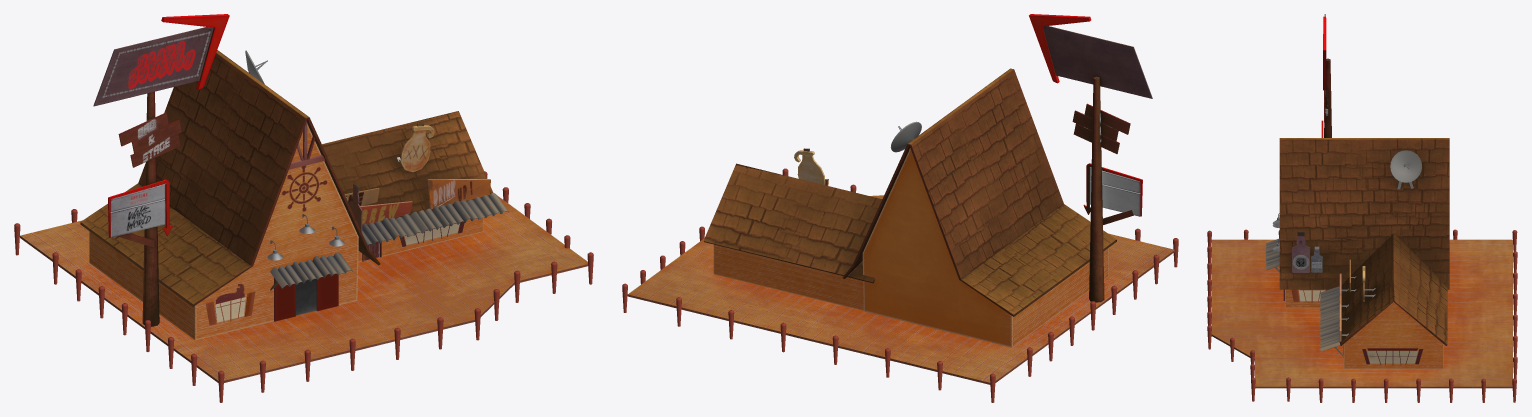
3 renders of one model, left to right at view 1: azimuth 30°, elevation 25°; view 2: azimuth 150°, elevation 25°; view 3: azimuth 270°, elevation 25°, orthographic. The views are drawn at different scales.
Parts seen in each view (by area): view 1: osnova_low, krisha1_low, osnova1_low, stolb_low, krisha2_low, shifer2_low, shifer1_low, door1_low, reklama3_low, flyaga_low, osnova2_low, okno1_low (+3 smaller); view 2: krisha1_low, osnova_low, osnova1_low, krisha2_low, stolb_low, osnova2_low, flyaga_low, Cylinder_low; view 3: osnova_low, krisha1_low, krisha2_low, osnova2_low, shifer2_low, bokno2_low, stolb_low, Cylinder_low, botl1_low, osnova1_low, okno2_low, shifer1_low.
Part boxes in pixels (left/top/right/bottom): osnova_low: left=20, top=195, right=587, bottom=382; krisha1_low: left=80, top=50, right=380, bottom=306; osnova1_low: left=89, top=124, right=358, bottom=340; stolb_low: left=93, top=14, right=229, bottom=326; krisha2_low: left=322, top=111, right=493, bottom=225; shifer2_low: left=362, top=193, right=508, bottom=245; shifer1_low: left=270, top=252, right=352, bottom=288; door1_low: left=274, top=273, right=338, bottom=321; reklama3_low: left=427, top=179, right=490, bottom=209; flyaga_low: left=397, top=123, right=434, bottom=172; osnova2_low: left=358, top=218, right=483, bottom=262; okno1_low: left=206, top=291, right=255, bottom=325; krisha1_low: left=842, top=68, right=1116, bottom=316; osnova_low: left=627, top=195, right=1174, bottom=384; osnova1_low: left=862, top=148, right=1108, bottom=347; krisha2_low: left=703, top=163, right=881, bottom=283; stolb_low: left=1029, top=14, right=1152, bottom=302; osnova2_low: left=713, top=244, right=863, bottom=310; flyaga_low: left=794, top=148, right=825, bottom=184; Cylinder_low: left=890, top=121, right=921, bottom=152; osnova_low: left=1211, top=239, right=1512, bottom=388; krisha1_low: left=1279, top=138, right=1449, bottom=289; krisha2_low: left=1340, top=233, right=1447, bottom=345; osnova2_low: left=1343, top=302, right=1443, bottom=368; shifer2_low: left=1319, top=286, right=1340, bottom=351; bokno2_low: left=1362, top=348, right=1423, bottom=364; stolb_low: left=1321, top=14, right=1331, bottom=137; Cylinder_low: left=1390, top=150, right=1421, bottom=182; botl1_low: left=1292, top=232, right=1310, bottom=272; osnova1_low: left=1285, top=289, right=1325, bottom=308; okno2_low: left=1291, top=289, right=1328, bottom=303; shifer1_low: left=1265, top=238, right=1279, bottom=269.
Size of the model in its own units: 13.97 by 9.51 by 10.93.
Materials: 1 (1 with a texture image).
